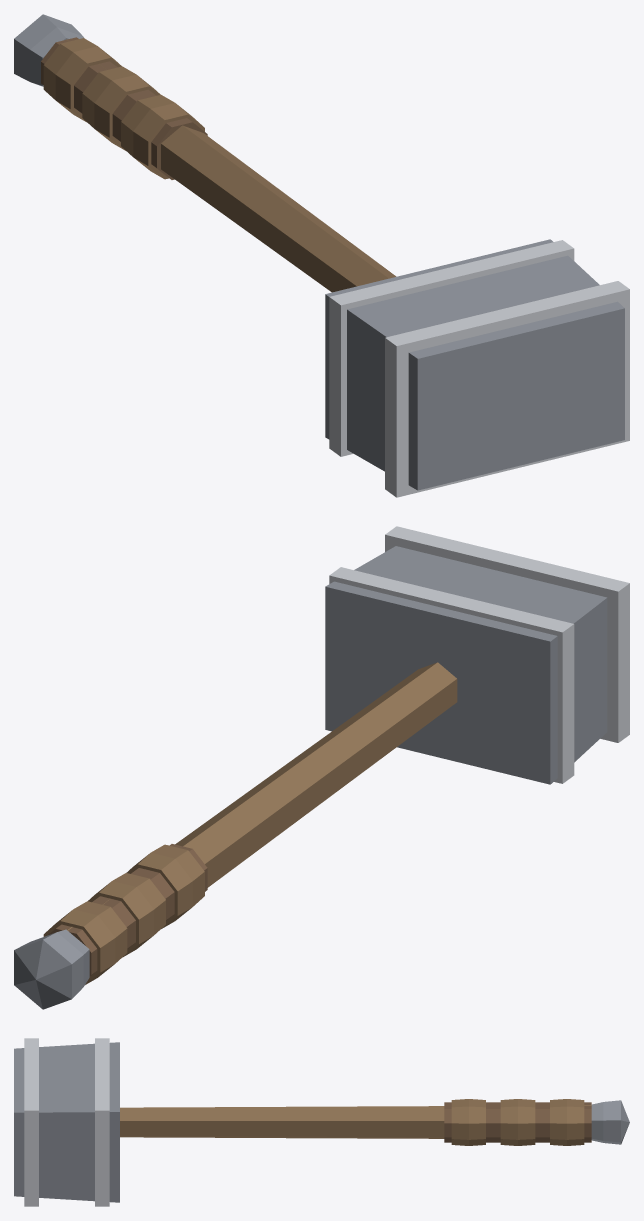
Rendered from quarrymaul.glb.
3 renders of one model, top to bottom at view 1: azimuth 30°, elevation 25°; view 2: azimuth 150°, elevation 25°; view 3: azimuth 270°, elevation 25°, orthographic. The views are drawn at different scales.
Visible parts, largest first — view 1: quarrymaul; view 2: quarrymaul; view 3: quarrymaul.
Part boxes in pixels (bbox=[...]): quarrymaul: bbox=[14, 14, 629, 497]; quarrymaul: bbox=[14, 526, 629, 1009]; quarrymaul: bbox=[14, 1038, 629, 1206].
Size of the model in its own units: 0.29 by 0.18 by 1.04.
